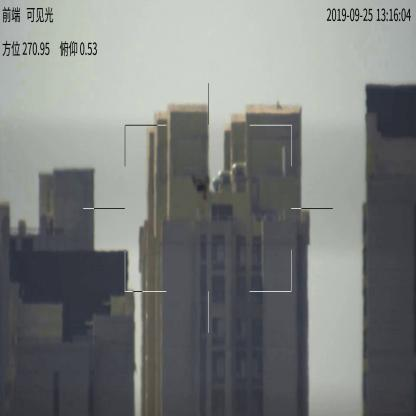uav: (192, 174, 213, 200)
